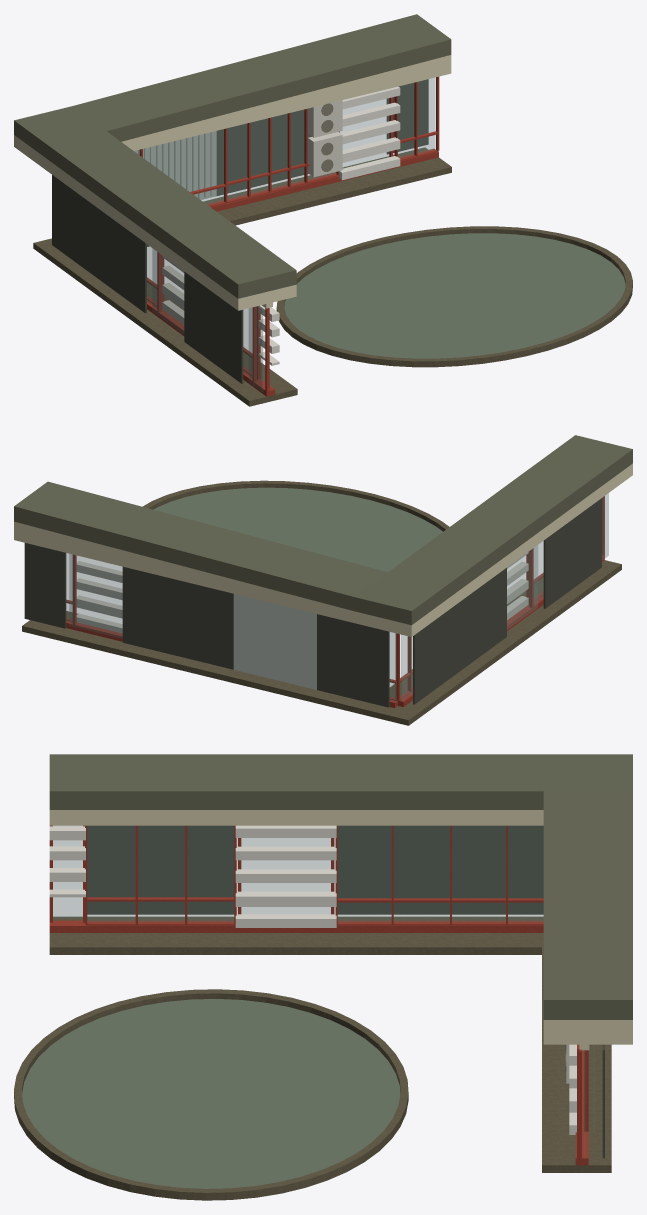
Rendered from changning-yao-residence-water-garden-lod.glb.
3 renders of one model, top to bottom at view 1: azimuth 30°, elevation 25°; view 2: azimuth 150°, elevation 25°; view 3: azimuth 270°, elevation 25°, orthographic. The views are drawn at different scales.
Parts seen in each view (by area): view 1: 淮阴路姚氏住宅水庭转角长窗与水平格栅; view 2: 淮阴路姚氏住宅水庭转角长窗与水平格栅; view 3: 淮阴路姚氏住宅水庭转角长窗与水平格栅.
Part boxes in pixels (x1,y1,x2,y2): 淮阴路姚氏住宅水庭转角长窗与水平格栅: [14, 14, 632, 406]; 淮阴路姚氏住宅水庭转角长窗与水平格栅: [14, 435, 632, 725]; 淮阴路姚氏住宅水庭转角长窗与水平格栅: [14, 754, 632, 1200].
Bounding box in the file's own units: 12.46 × 3.7 × 11.69.
Materials: 11 (2 with a texture image).
